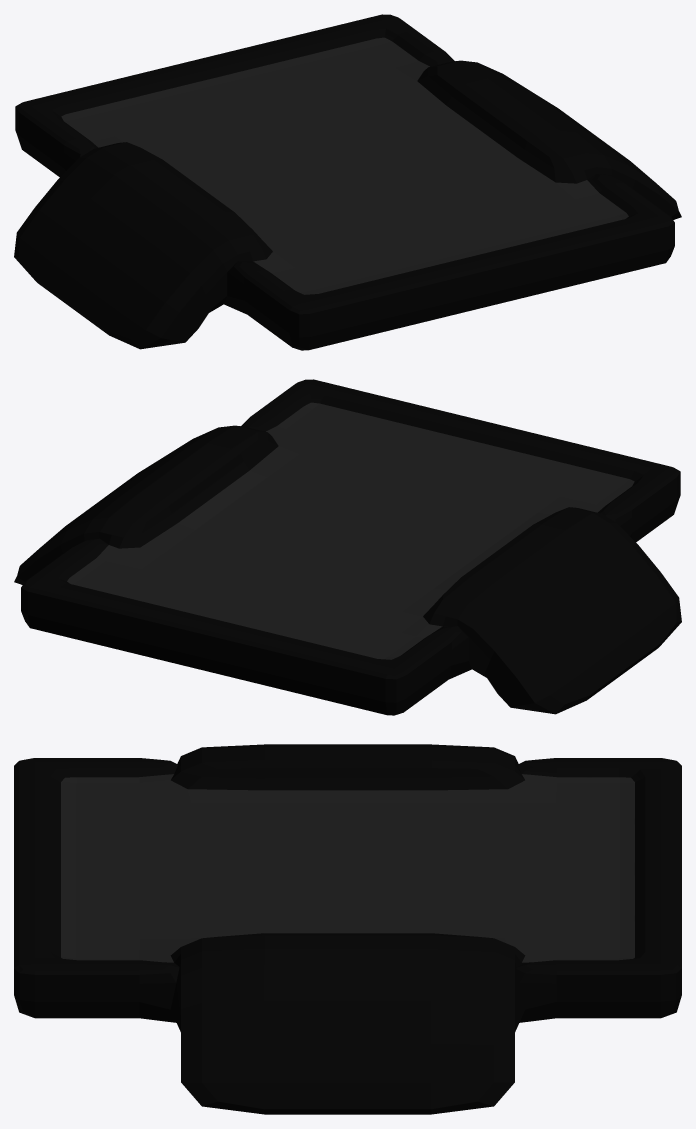
Rendered from PDA.fbx.
The picture shows the model from 3 angles, top to bottom: view 1: azimuth 30°, elevation 25°; view 2: azimuth 150°, elevation 25°; view 3: azimuth 270°, elevation 25°; orthographic projection. The views are drawn at different scales.
Visible parts, largest first — view 1: Cube; view 2: Cube; view 3: Cube.
Part boxes in pixels (box(x1,y1,x2,y2)): Cube: box(14, 14, 681, 350); Cube: box(14, 379, 681, 715); Cube: box(14, 744, 681, 1114).
Bounding box in the file's own units: 291 × 47.48 × 262.
